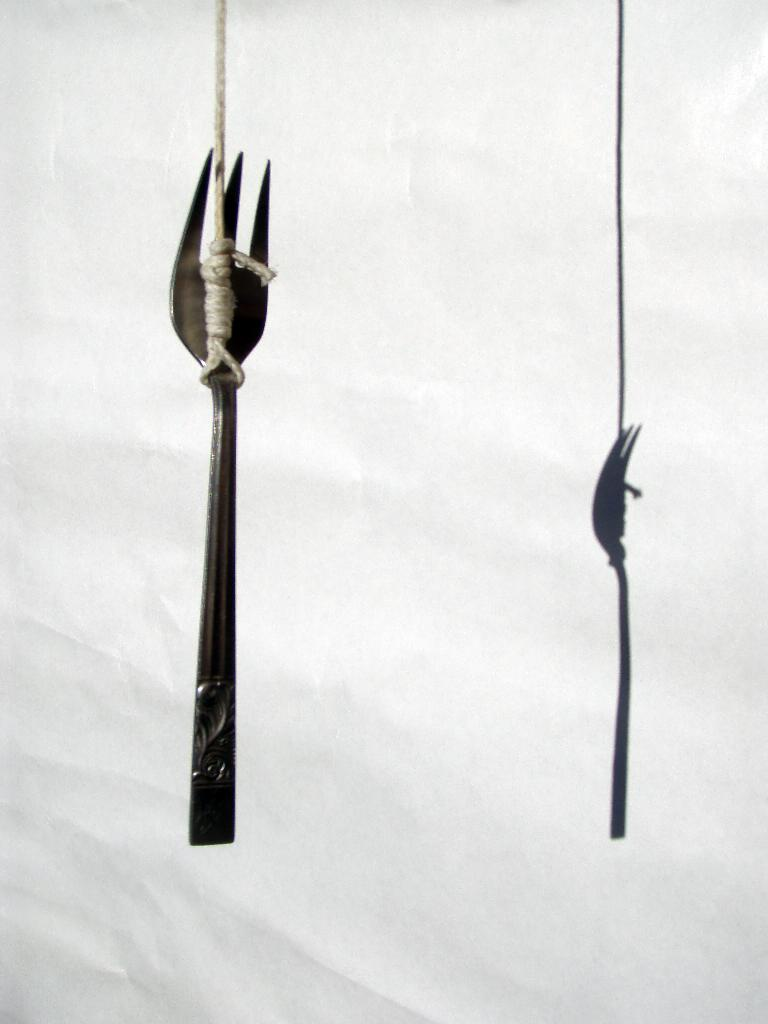fork: (168, 146, 271, 845)
